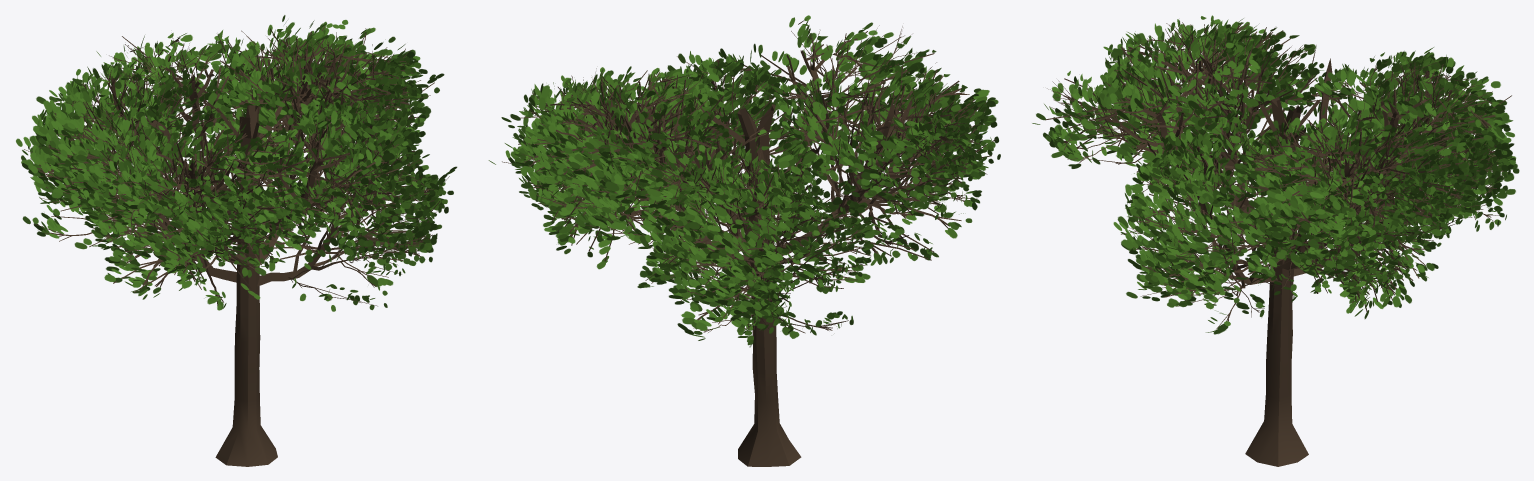
3 views of the same model, side by side, from view 1: azimuth 30°, elevation 25°; view 2: azimuth 150°, elevation 25°; view 3: azimuth 270°, elevation 25° (orthographic). The views are drawn at different scales.
Visible parts, largest first — view 1: oak 01.001_trunk_Mat.001_0.013; view 2: oak 01.001_trunk_Mat.001_0.013; view 3: oak 01.001_trunk_Mat.001_0.013.
Part boxes in pixels (x1,y1,x2,y2): oak 01.001_trunk_Mat.001_0.013: (16, 15, 457, 466); oak 01.001_trunk_Mat.001_0.013: (488, 15, 1000, 466); oak 01.001_trunk_Mat.001_0.013: (1032, 15, 1519, 466).
Bounding box in the file's own units: 5.8 × 4.98 × 5.93.
2 materials, 1 textured.
